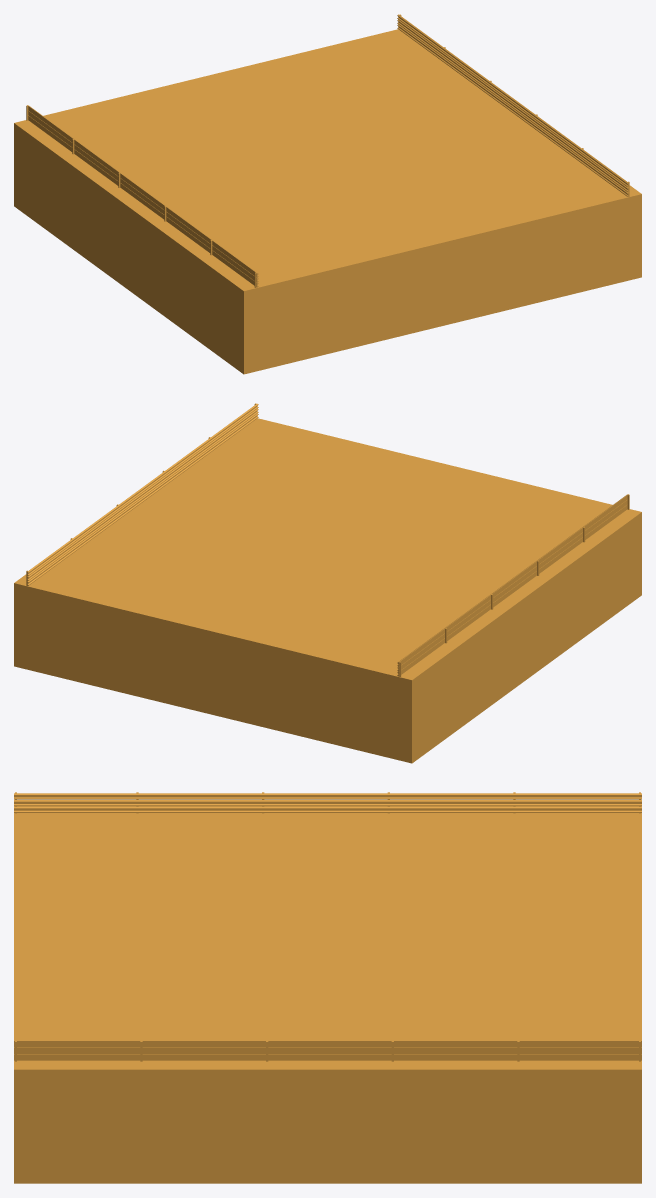
File: tile-race-track-straight-curbs.glb
3 views of the same model, one above another, from view 1: azimuth 30°, elevation 25°; view 2: azimuth 150°, elevation 25°; view 3: azimuth 270°, elevation 25° (orthographic). The views are drawn at different scales.
Parts seen in each view (by area): view 1: tile-race-track-straight-curbs; view 2: tile-race-track-straight-curbs; view 3: tile-race-track-straight-curbs.
Boxes of the visible parts, bbox=[...] form: tile-race-track-straight-curbs: bbox=[14, 14, 641, 374]; tile-race-track-straight-curbs: bbox=[14, 403, 641, 763]; tile-race-track-straight-curbs: bbox=[14, 792, 641, 1183].
Size of the model in its own units: 30 by 7.05 by 30.
